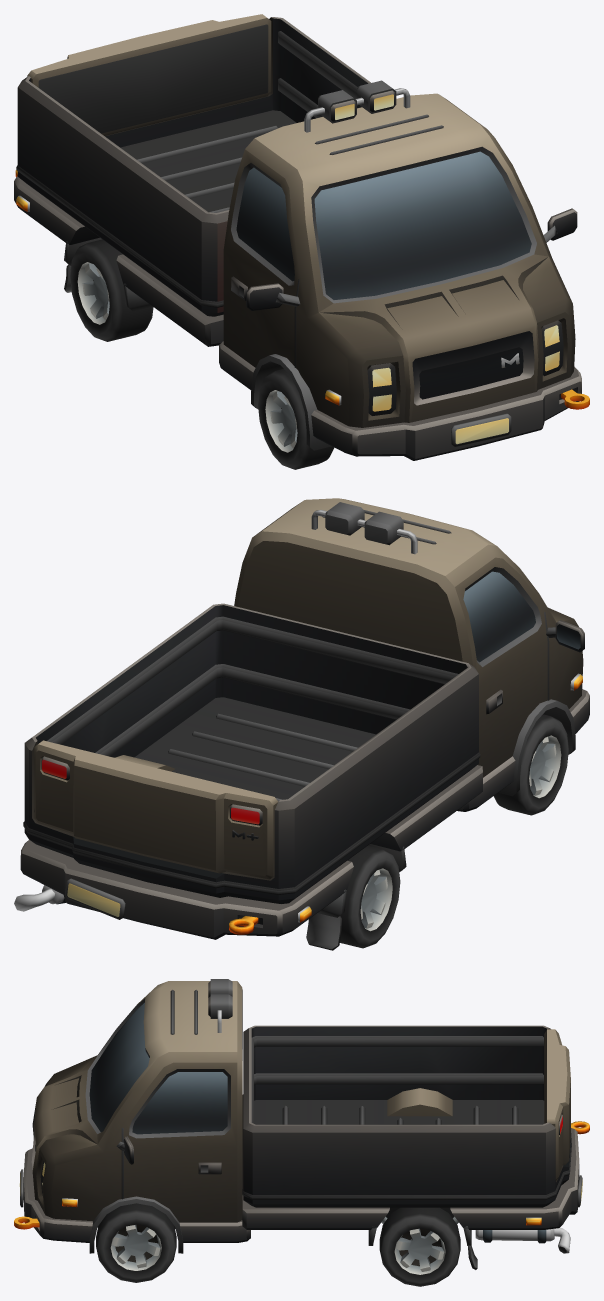
File: Pick_Up_1B.fbx
3 views of the same model, one above another, from view 1: azimuth 30°, elevation 25°; view 2: azimuth 150°, elevation 25°; view 3: azimuth 270°, elevation 25° (orthographic). The views are drawn at different scales.
Parts seen in each view (by area): view 1: Pick_Up_1B, Pick_Up_1B_Tailgate, Pick_Up_1B_Wheel_R.R, Pick_Up_1B_Wheel_F.R; view 2: Pick_Up_1B, Pick_Up_1B_Tailgate, Pick_Up_1B_Wheel_R.R, Pick_Up_1B_Wheel_F.R; view 3: Pick_Up_1B, Pick_Up_1B_Wheel_R.L, Pick_Up_1B_Wheel_F.L, Pick_Up_1B_Tailgate.
Part boxes in pixels (box(x1,y1,x2,y2)): Pick_Up_1B: box(14, 17, 589, 460); Pick_Up_1B_Tailgate: box(27, 14, 271, 135); Pick_Up_1B_Wheel_R.R: box(70, 239, 153, 341); Pick_Up_1B_Wheel_F.R: box(258, 369, 334, 469); Pick_Up_1B: box(14, 498, 589, 950); Pick_Up_1B_Tailgate: box(34, 740, 278, 879); Pick_Up_1B_Wheel_R.R: box(340, 845, 400, 948); Pick_Up_1B_Wheel_F.R: box(493, 714, 568, 815); Pick_Up_1B: box(14, 979, 589, 1269); Pick_Up_1B_Wheel_R.L: box(379, 1207, 460, 1286); Pick_Up_1B_Wheel_F.L: box(96, 1203, 176, 1282); Pick_Up_1B_Tailgate: box(544, 1029, 570, 1180).
Bounding box in the file's own units: 3.18 × 2.82 × 6.03.
